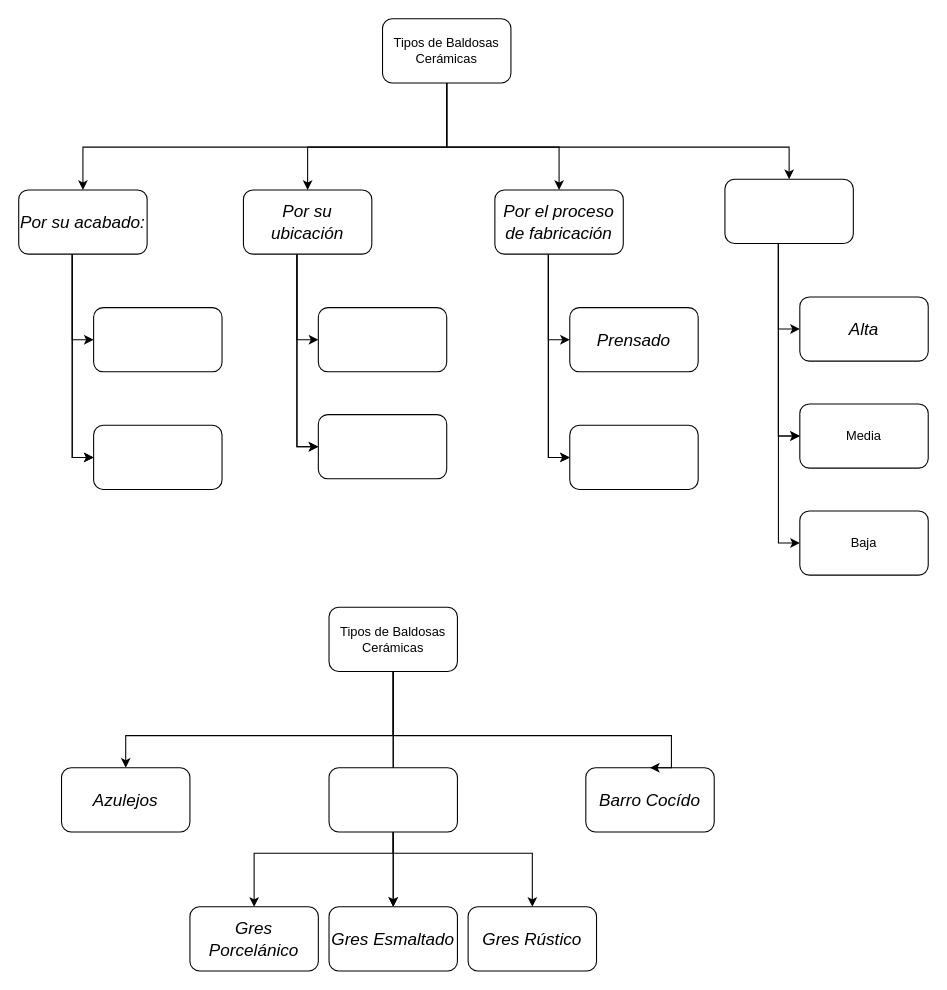
This 947x990 diagram has some shape labels left out. Here are the shapes that lost their labels. From the top down, the centre of each, then its label:
the point at 788,210: Por su absorción :
the point at 157,339: Esmaltadas
the point at 382,339: Exterior o interior
the point at 157,457: No Esmaltadas
the point at 382,446: Pavimento o revestimiento.
the point at 633,457: Extrusión
the point at 392,799: Gres
